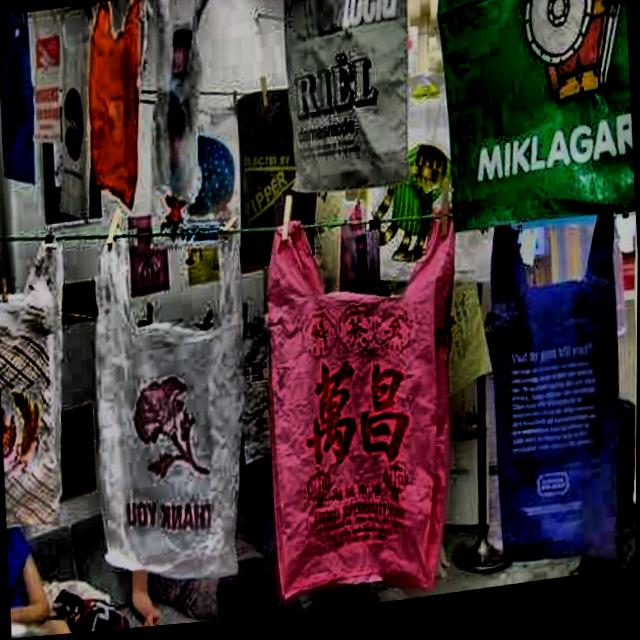Plastic: (252, 199, 474, 621), (89, 211, 254, 606), (479, 212, 639, 580), (0, 0, 214, 225)
